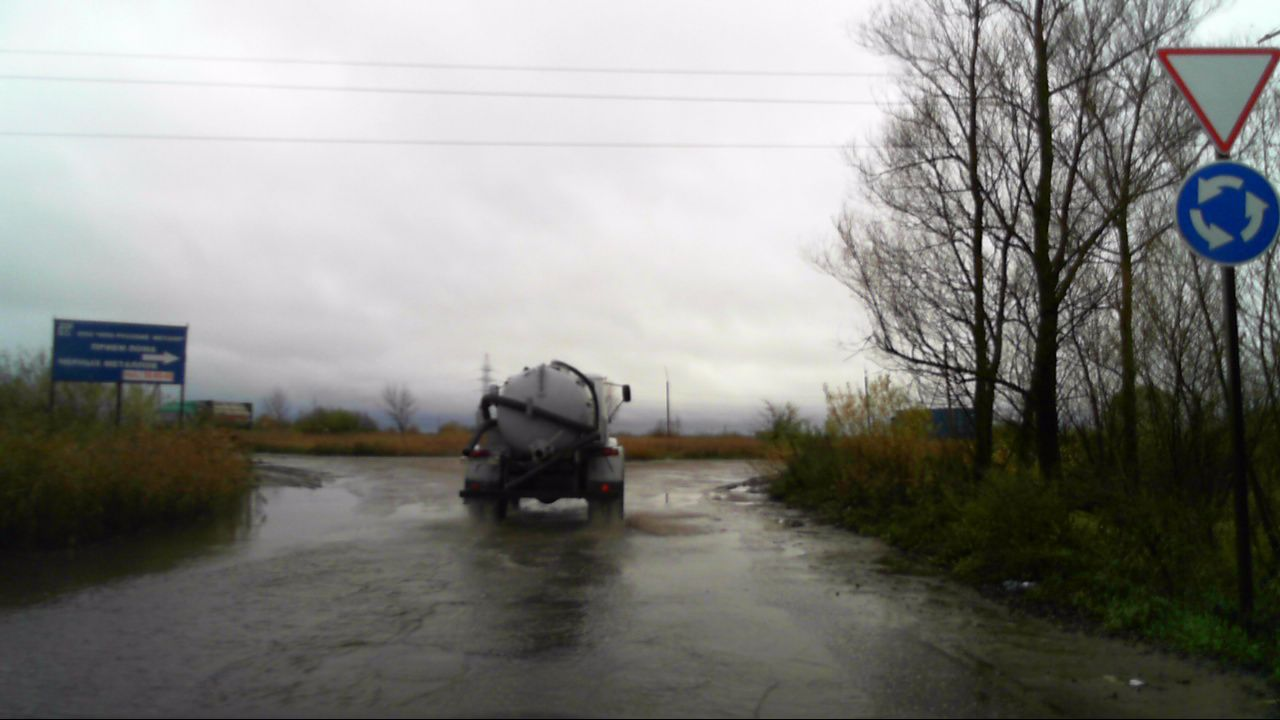Round-About: (1172, 159, 1279, 266)
